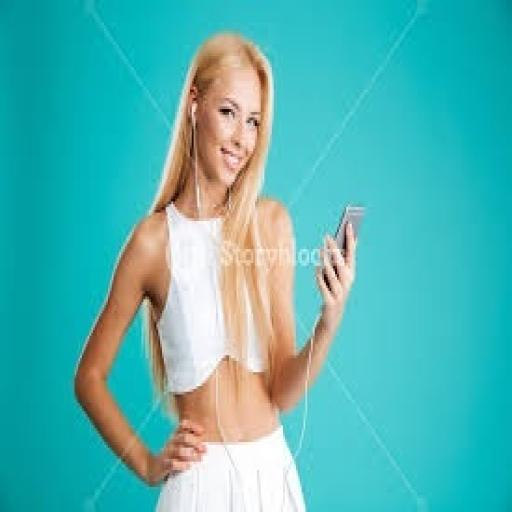listening_to_music: (71, 28, 361, 509)
